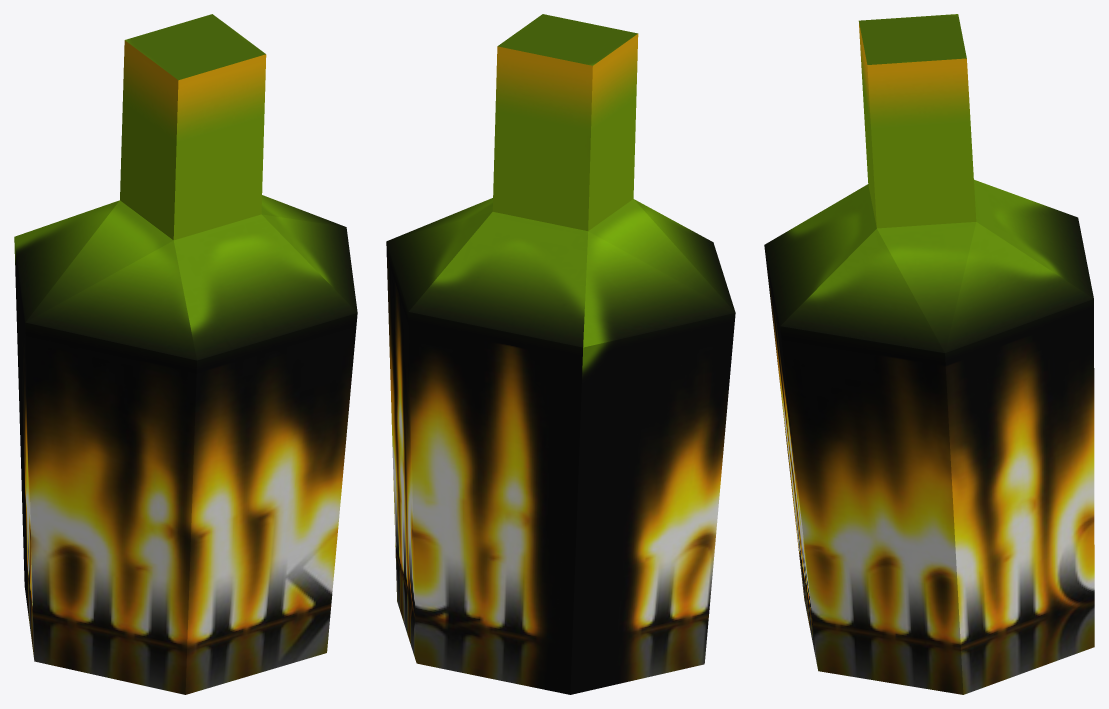
File: miniBottleAni.dae
3 views of the same model, side by side, from view 1: azimuth 30°, elevation 25°; view 2: azimuth 150°, elevation 25°; view 3: azimuth 270°, elevation 25° (orthographic).
Visible parts, largest first — view 1: bottle; view 2: bottle; view 3: bottle.
Boxes of the visible parts, x1,y1,x2,y2 form: bottle: (14,14,357,694); bottle: (386,14,735,694); bottle: (764,14,1094,694).
Bounding box in the file's own units: 34.02 × 28.93 × 57.38.
1 material, 1 textured.
